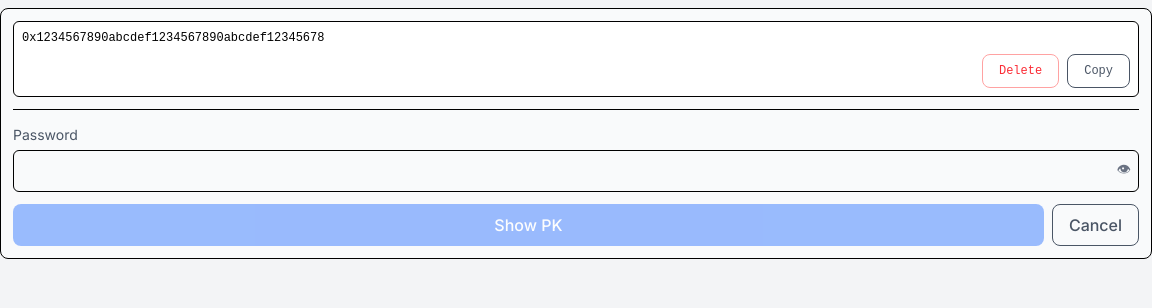
WalletActionsPanel › shows error with wrong password
The width and height of the screenshot is (1152, 308).
Type "wrongpass" into the password field labelled "Password 👁". click: coordinates (576, 171)
box: [13, 150, 1139, 192]
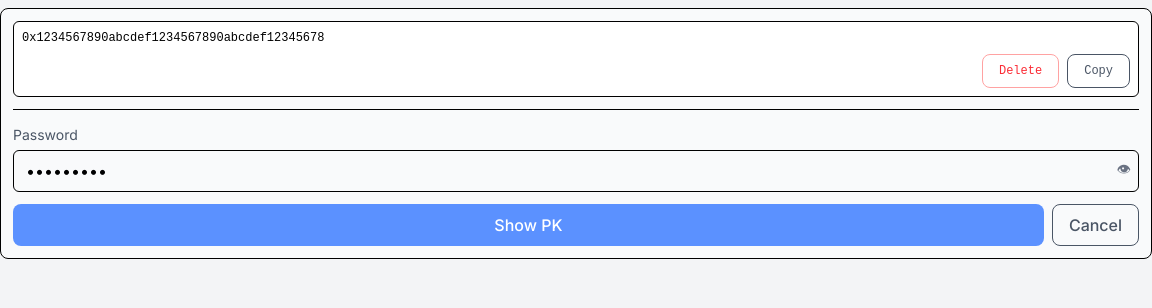
Click the button "Show PK". click: coordinates (528, 225)
box: [13, 204, 1044, 246]
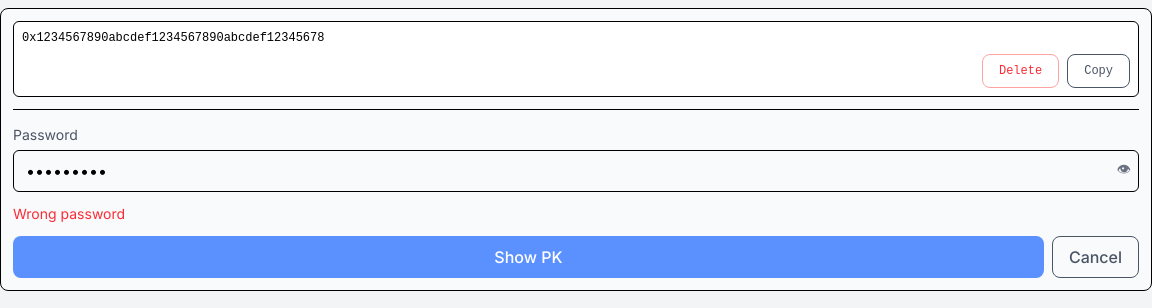
Expected: the text "Wrong password" is shown, [13, 205, 125, 222]
